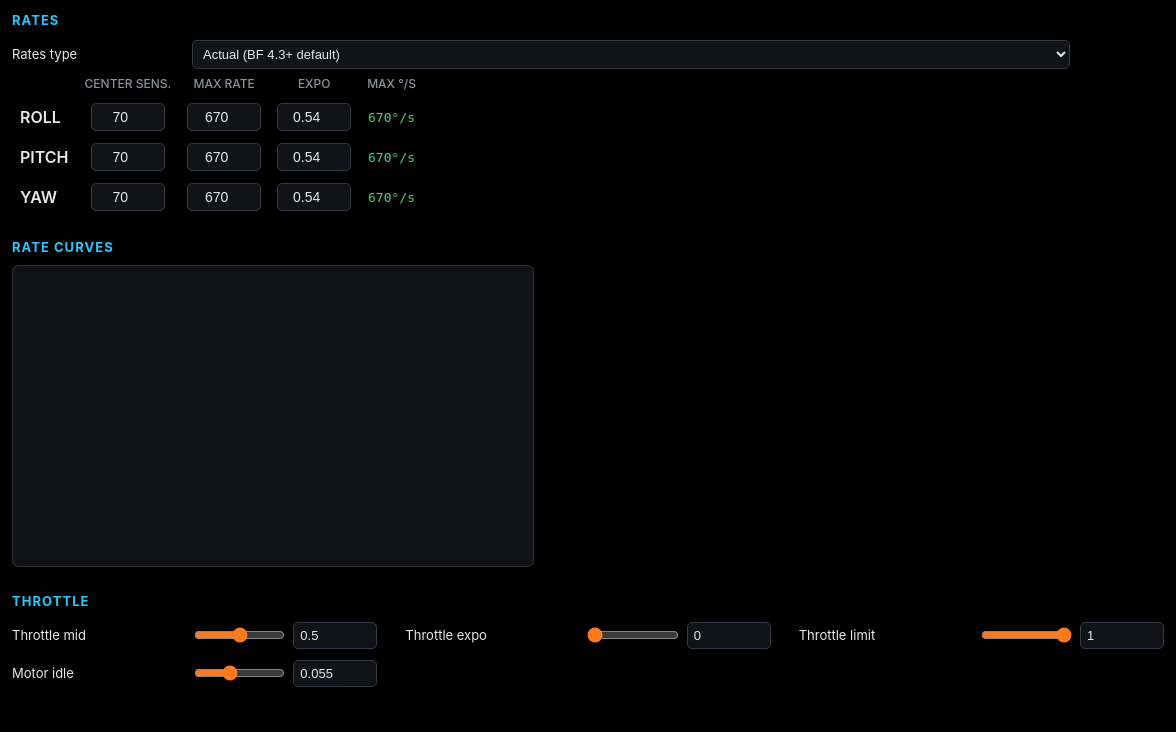
Rates tab › shows max rate per axis and updates live
The image size is (1176, 732).
Expected: the cell with test id "max-roll" reads "670°/s", [359,97,424,137]
Replace the text in the number field named "roll rate" with "800" at (224, 117), box [187,103,261,131]
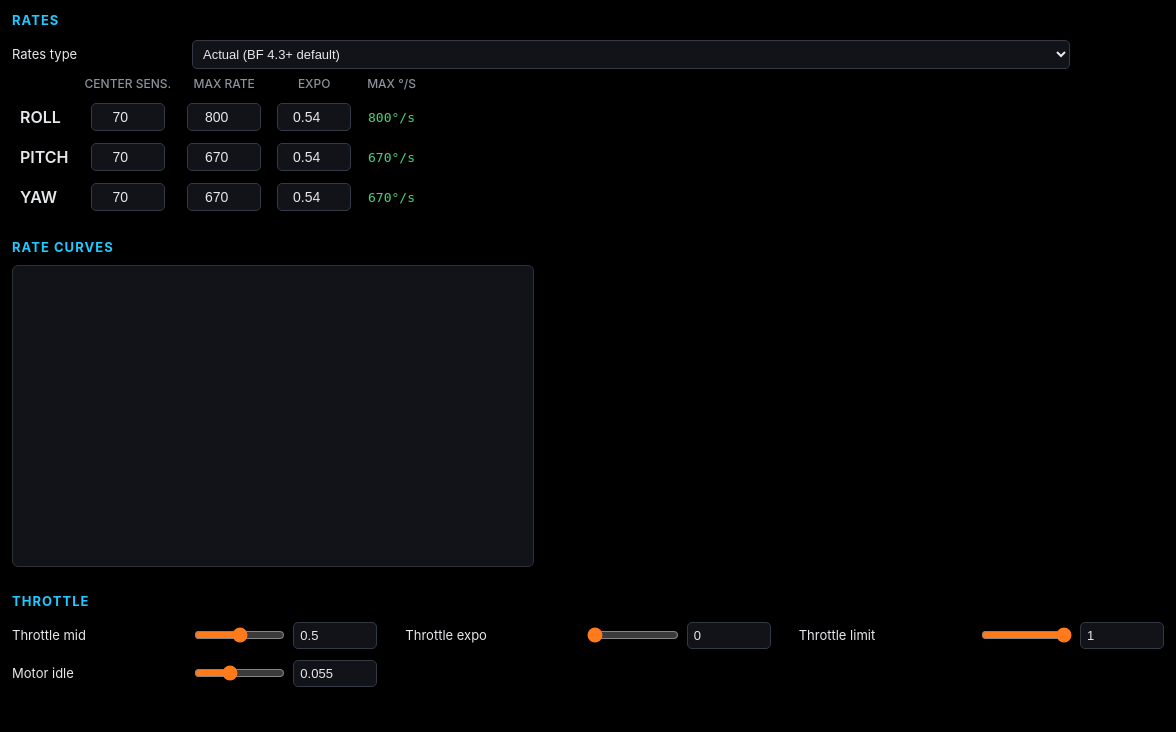
Expected: the cell with test id "max-roll" reads "800°/s", [359,97,424,137]
